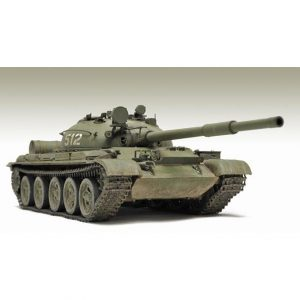Battle Tank: (4, 99, 286, 225)
